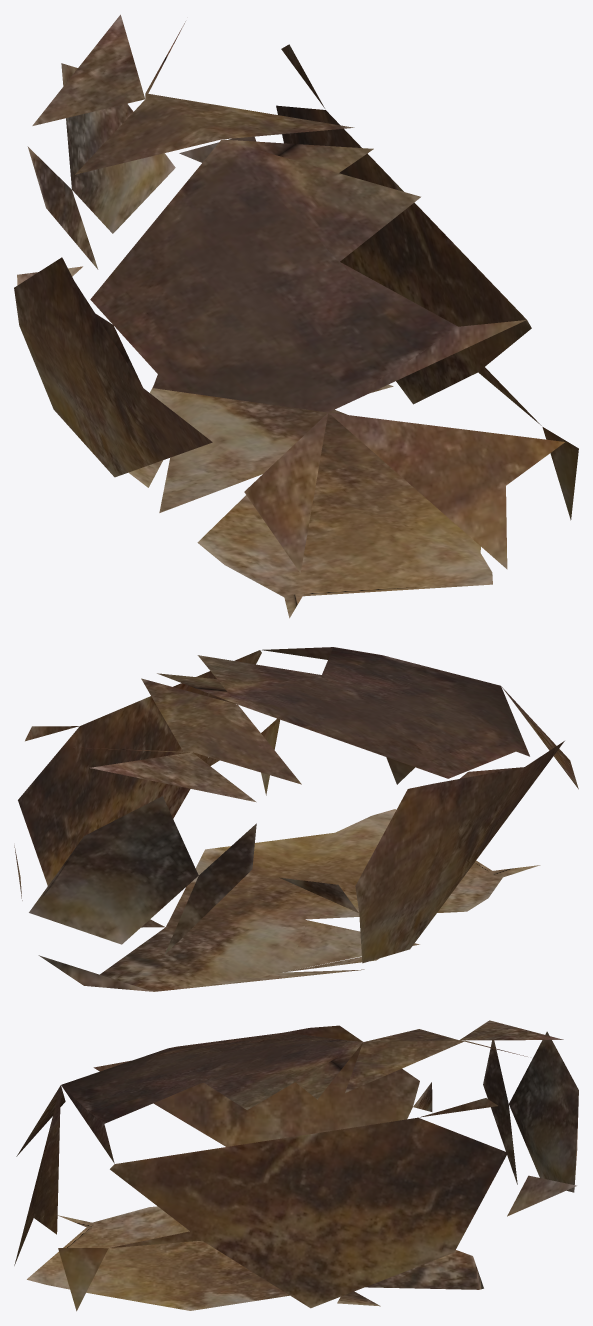
File: rock_07_lo.glb
The picture shows the model from 3 angles, top to bottom: view 1: azimuth 30°, elevation 25°; view 2: azimuth 150°, elevation 25°; view 3: azimuth 270°, elevation 25°; orthographic projection. The views are drawn at different scales.
Visible parts, largest first — view 1: rock_07_lo; view 2: rock_07_lo; view 3: rock_07_lo.
Boxes of the visible parts, x1,y1,x2,y2 form: rock_07_lo: [14, 14, 578, 618]; rock_07_lo: [14, 647, 578, 991]; rock_07_lo: [14, 1020, 578, 1311].
Size of the model in its own units: 0.1678 by 0.1413 by 0.3041.
1 material, 1 textured.
